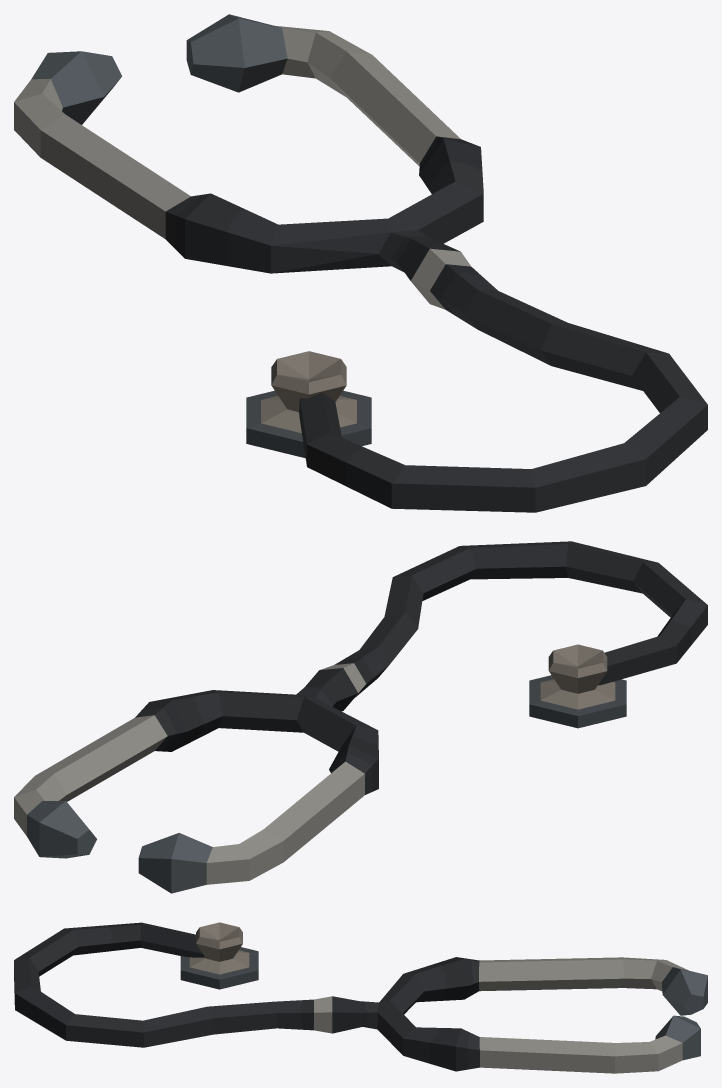
File: SM_Prop_Stethiscope_01.fbx
3 views of the same model, one above another, from view 1: azimuth 30°, elevation 25°; view 2: azimuth 150°, elevation 25°; view 3: azimuth 270°, elevation 25° (orthographic). The views are drawn at different scales.
Visible parts, largest first — view 1: SM_Prop_Stethiscope_01; view 2: SM_Prop_Stethiscope_01; view 3: SM_Prop_Stethiscope_01.
Part boxes in pixels (box(x1,y1,x2,y2)): SM_Prop_Stethiscope_01: box(14, 14, 707, 512); SM_Prop_Stethiscope_01: box(14, 541, 707, 893); SM_Prop_Stethiscope_01: box(14, 922, 707, 1073).
Size of the model in its own units: 33.16 by 5.28 by 71.87.
